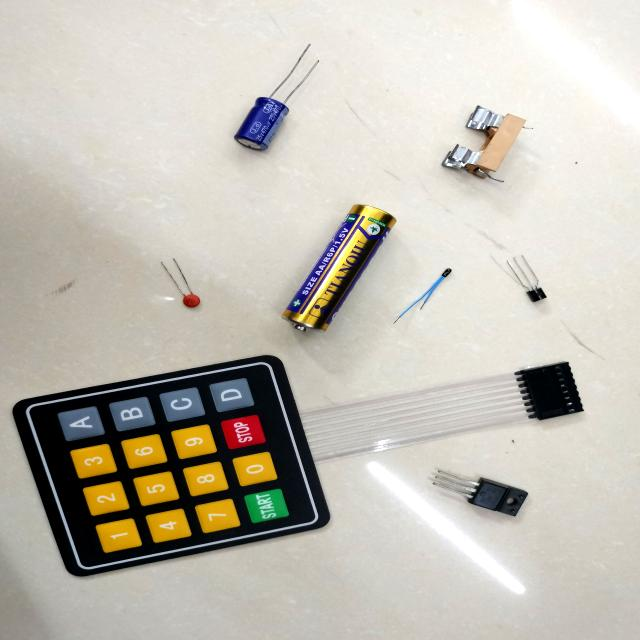capacitor: (236, 97, 287, 151), (183, 293, 200, 308)
